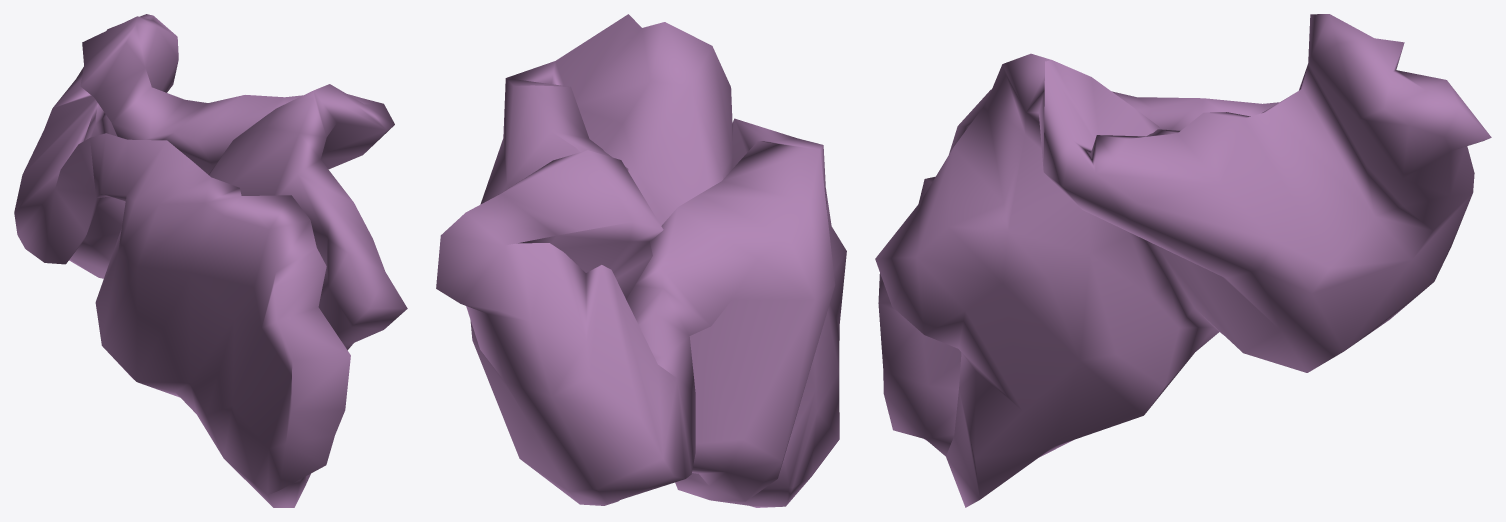
The picture shows the model from 3 angles, left to right: view 1: azimuth 30°, elevation 25°; view 2: azimuth 150°, elevation 25°; view 3: azimuth 270°, elevation 25°; orthographic projection. The views are drawn at different scales.
Parts seen in each view (by area): view 1: 右侧枕横沟; view 2: 右侧枕横沟; view 3: 右侧枕横沟.
Boxes of the visible parts, x1=… form: 右侧枕横沟: x1=14, y1=14, x2=407, y2=507; 右侧枕横沟: x1=436, y1=14, x2=846, y2=507; 右侧枕横沟: x1=875, y1=14, x2=1491, y2=507.
Bounding box in the file's own units: 0.0254 × 0.0371 × 0.0425.
